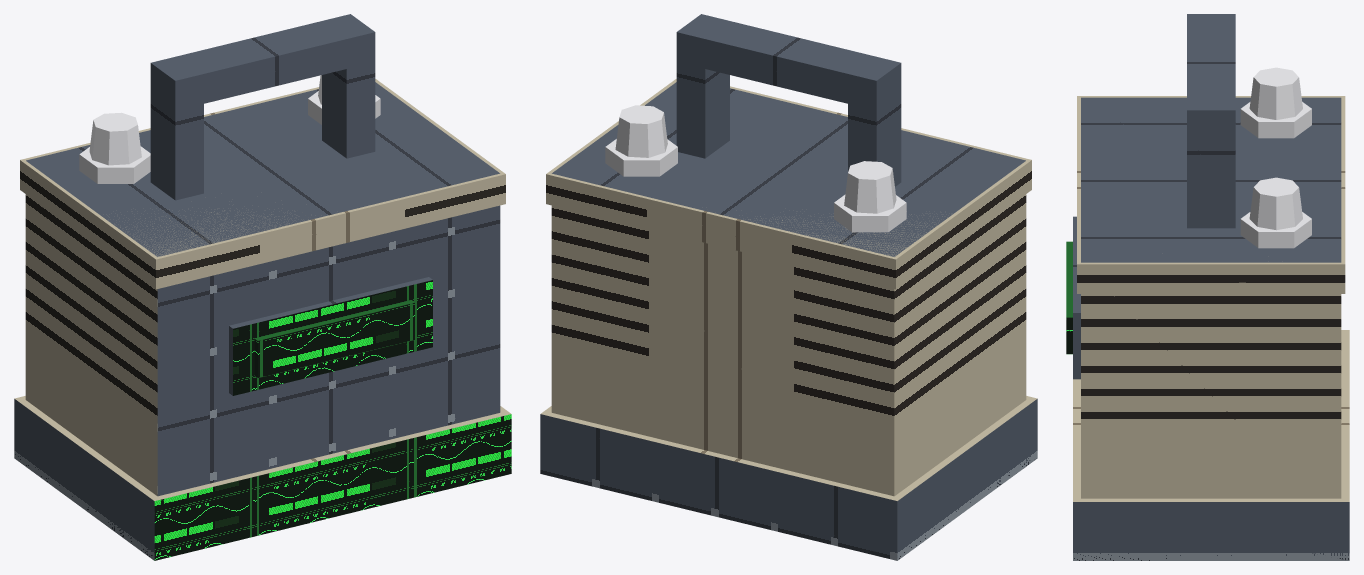
File: battery_cell.glb
3 renders of one model, left to right at view 1: azimuth 30°, elevation 25°; view 2: azimuth 150°, elevation 25°; view 3: azimuth 270°, elevation 25°, orthographic.
Visible parts, largest first — view 1: battery_cell; view 2: battery_cell; view 3: battery_cell.
Part boxes in pixels (x1,y1,x2,y2): battery_cell: (14,14,511,560); battery_cell: (540,14,1037,560); battery_cell: (1066,14,1349,560).
Bounding box in the file's own units: 0.25 × 0.2825 × 0.174.
Materials: 4 (3 with a texture image).
